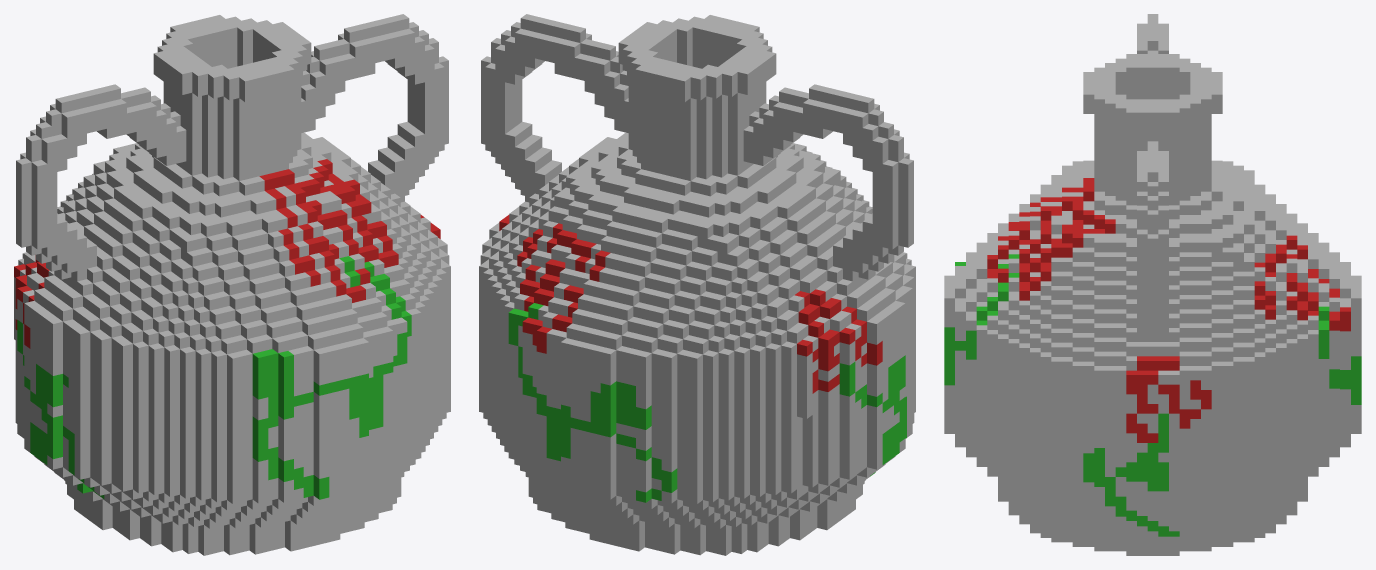
Rendered from Environment-2.obj.
3 views of the same model, side by side, from view 1: azimuth 30°, elevation 25°; view 2: azimuth 150°, elevation 25°; view 3: azimuth 270°, elevation 25° (orthographic). The views are drawn at different scales.
Size of the model in its own units: 4.3 by 4.2 by 3.9.
Materials: 1 (1 with a texture image).
